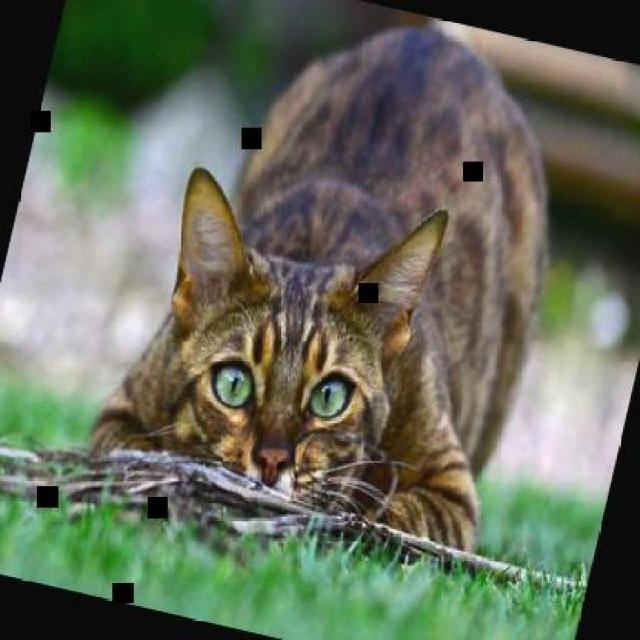cat: (83, 0, 597, 557)
